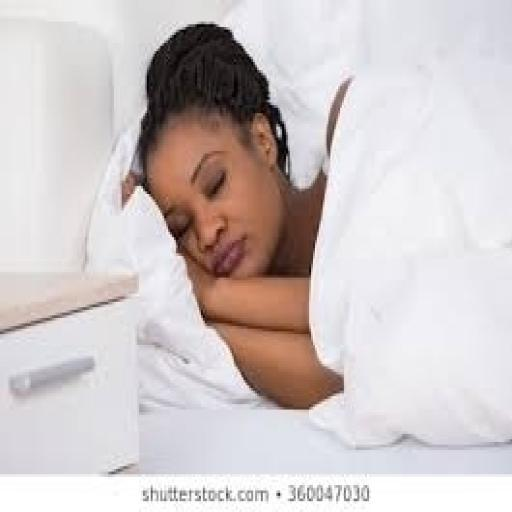sleeping: (122, 19, 510, 415)
